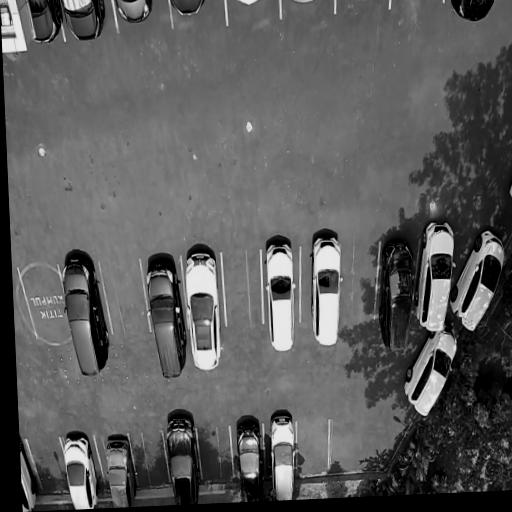Car: (57, 250, 114, 383), (447, 218, 512, 332), (398, 323, 466, 424), (141, 249, 188, 384), (410, 221, 463, 330), (374, 226, 418, 352), (183, 245, 225, 373), (158, 407, 201, 505), (261, 234, 294, 356), (311, 224, 343, 346), (55, 427, 101, 510), (265, 400, 298, 501), (101, 425, 139, 508), (228, 413, 263, 503), (59, 0, 106, 43), (19, 423, 39, 512), (22, 0, 60, 46), (448, 0, 503, 28), (113, 0, 153, 28), (167, 0, 209, 23), (227, 0, 267, 12), (287, 0, 327, 10), (506, 158, 512, 219), (343, 0, 379, 9)
Space Available: (18, 263, 70, 345), (99, 260, 150, 336), (341, 239, 379, 321), (223, 253, 263, 325), (130, 430, 170, 493), (27, 436, 69, 496), (197, 426, 234, 487), (296, 420, 330, 476), (388, 0, 444, 12)
